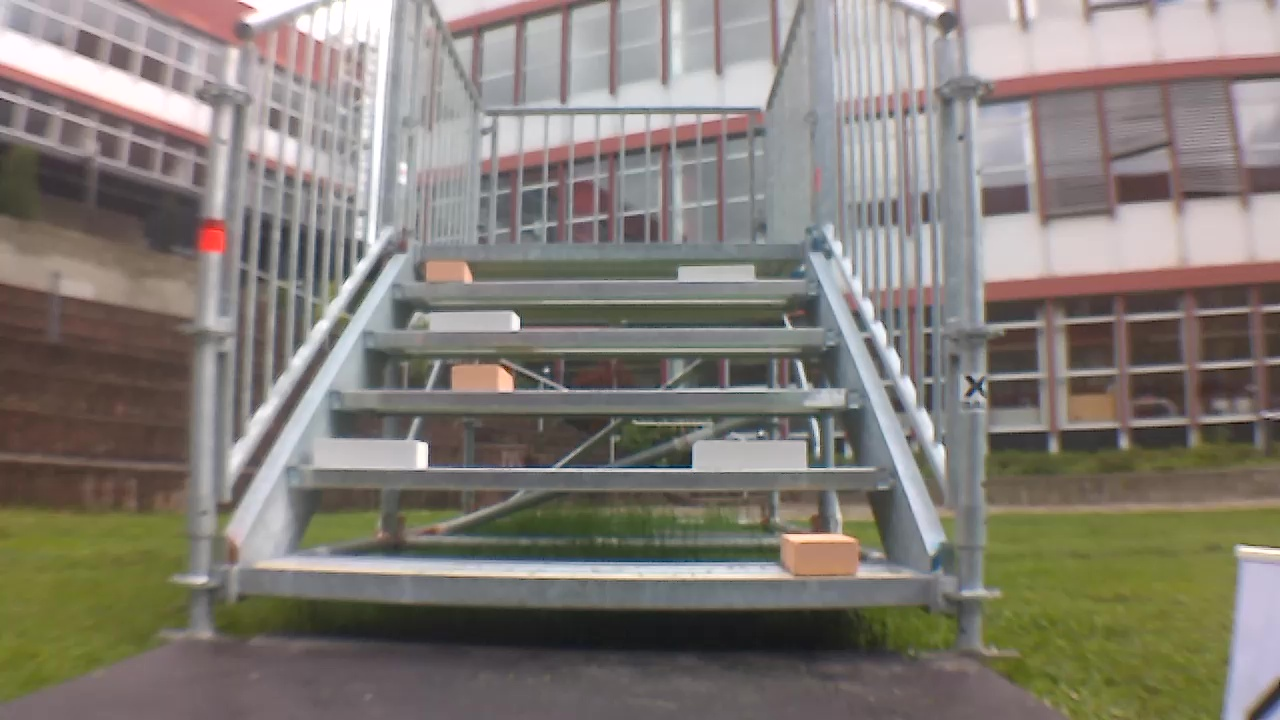brick: (315, 437, 428, 469), (692, 439, 804, 469), (781, 535, 856, 576), (451, 365, 512, 392), (430, 312, 518, 329), (677, 264, 753, 281), (427, 262, 471, 282)
edge: (238, 568, 935, 609), (286, 466, 895, 490), (327, 388, 862, 409), (362, 328, 838, 347), (418, 241, 800, 261), (392, 281, 824, 298)
stairs: (175, 3, 1007, 657)
steps: (229, 233, 945, 620)
